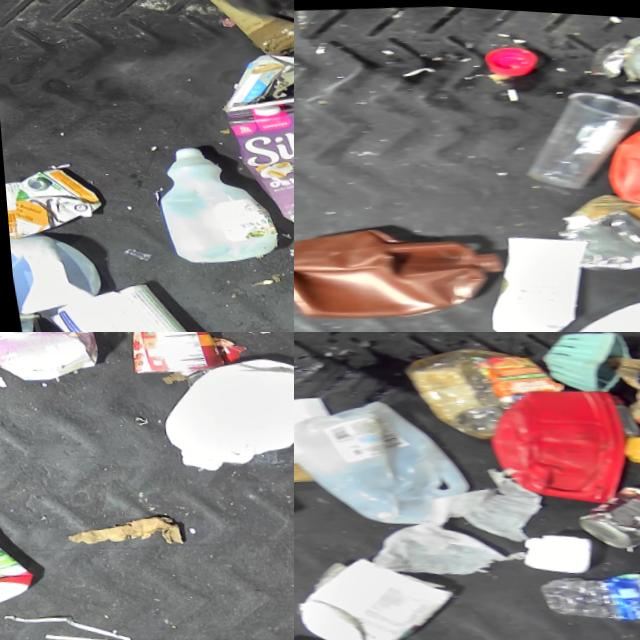can: (564, 469, 640, 550), (114, 332, 222, 379), (11, 314, 45, 332)
milk_jug: (294, 383, 475, 533), (135, 336, 294, 486), (4, 223, 110, 330)
non_white_jug: (294, 209, 516, 329), (588, 95, 640, 241)
plastic_bottle: (527, 557, 640, 624)
